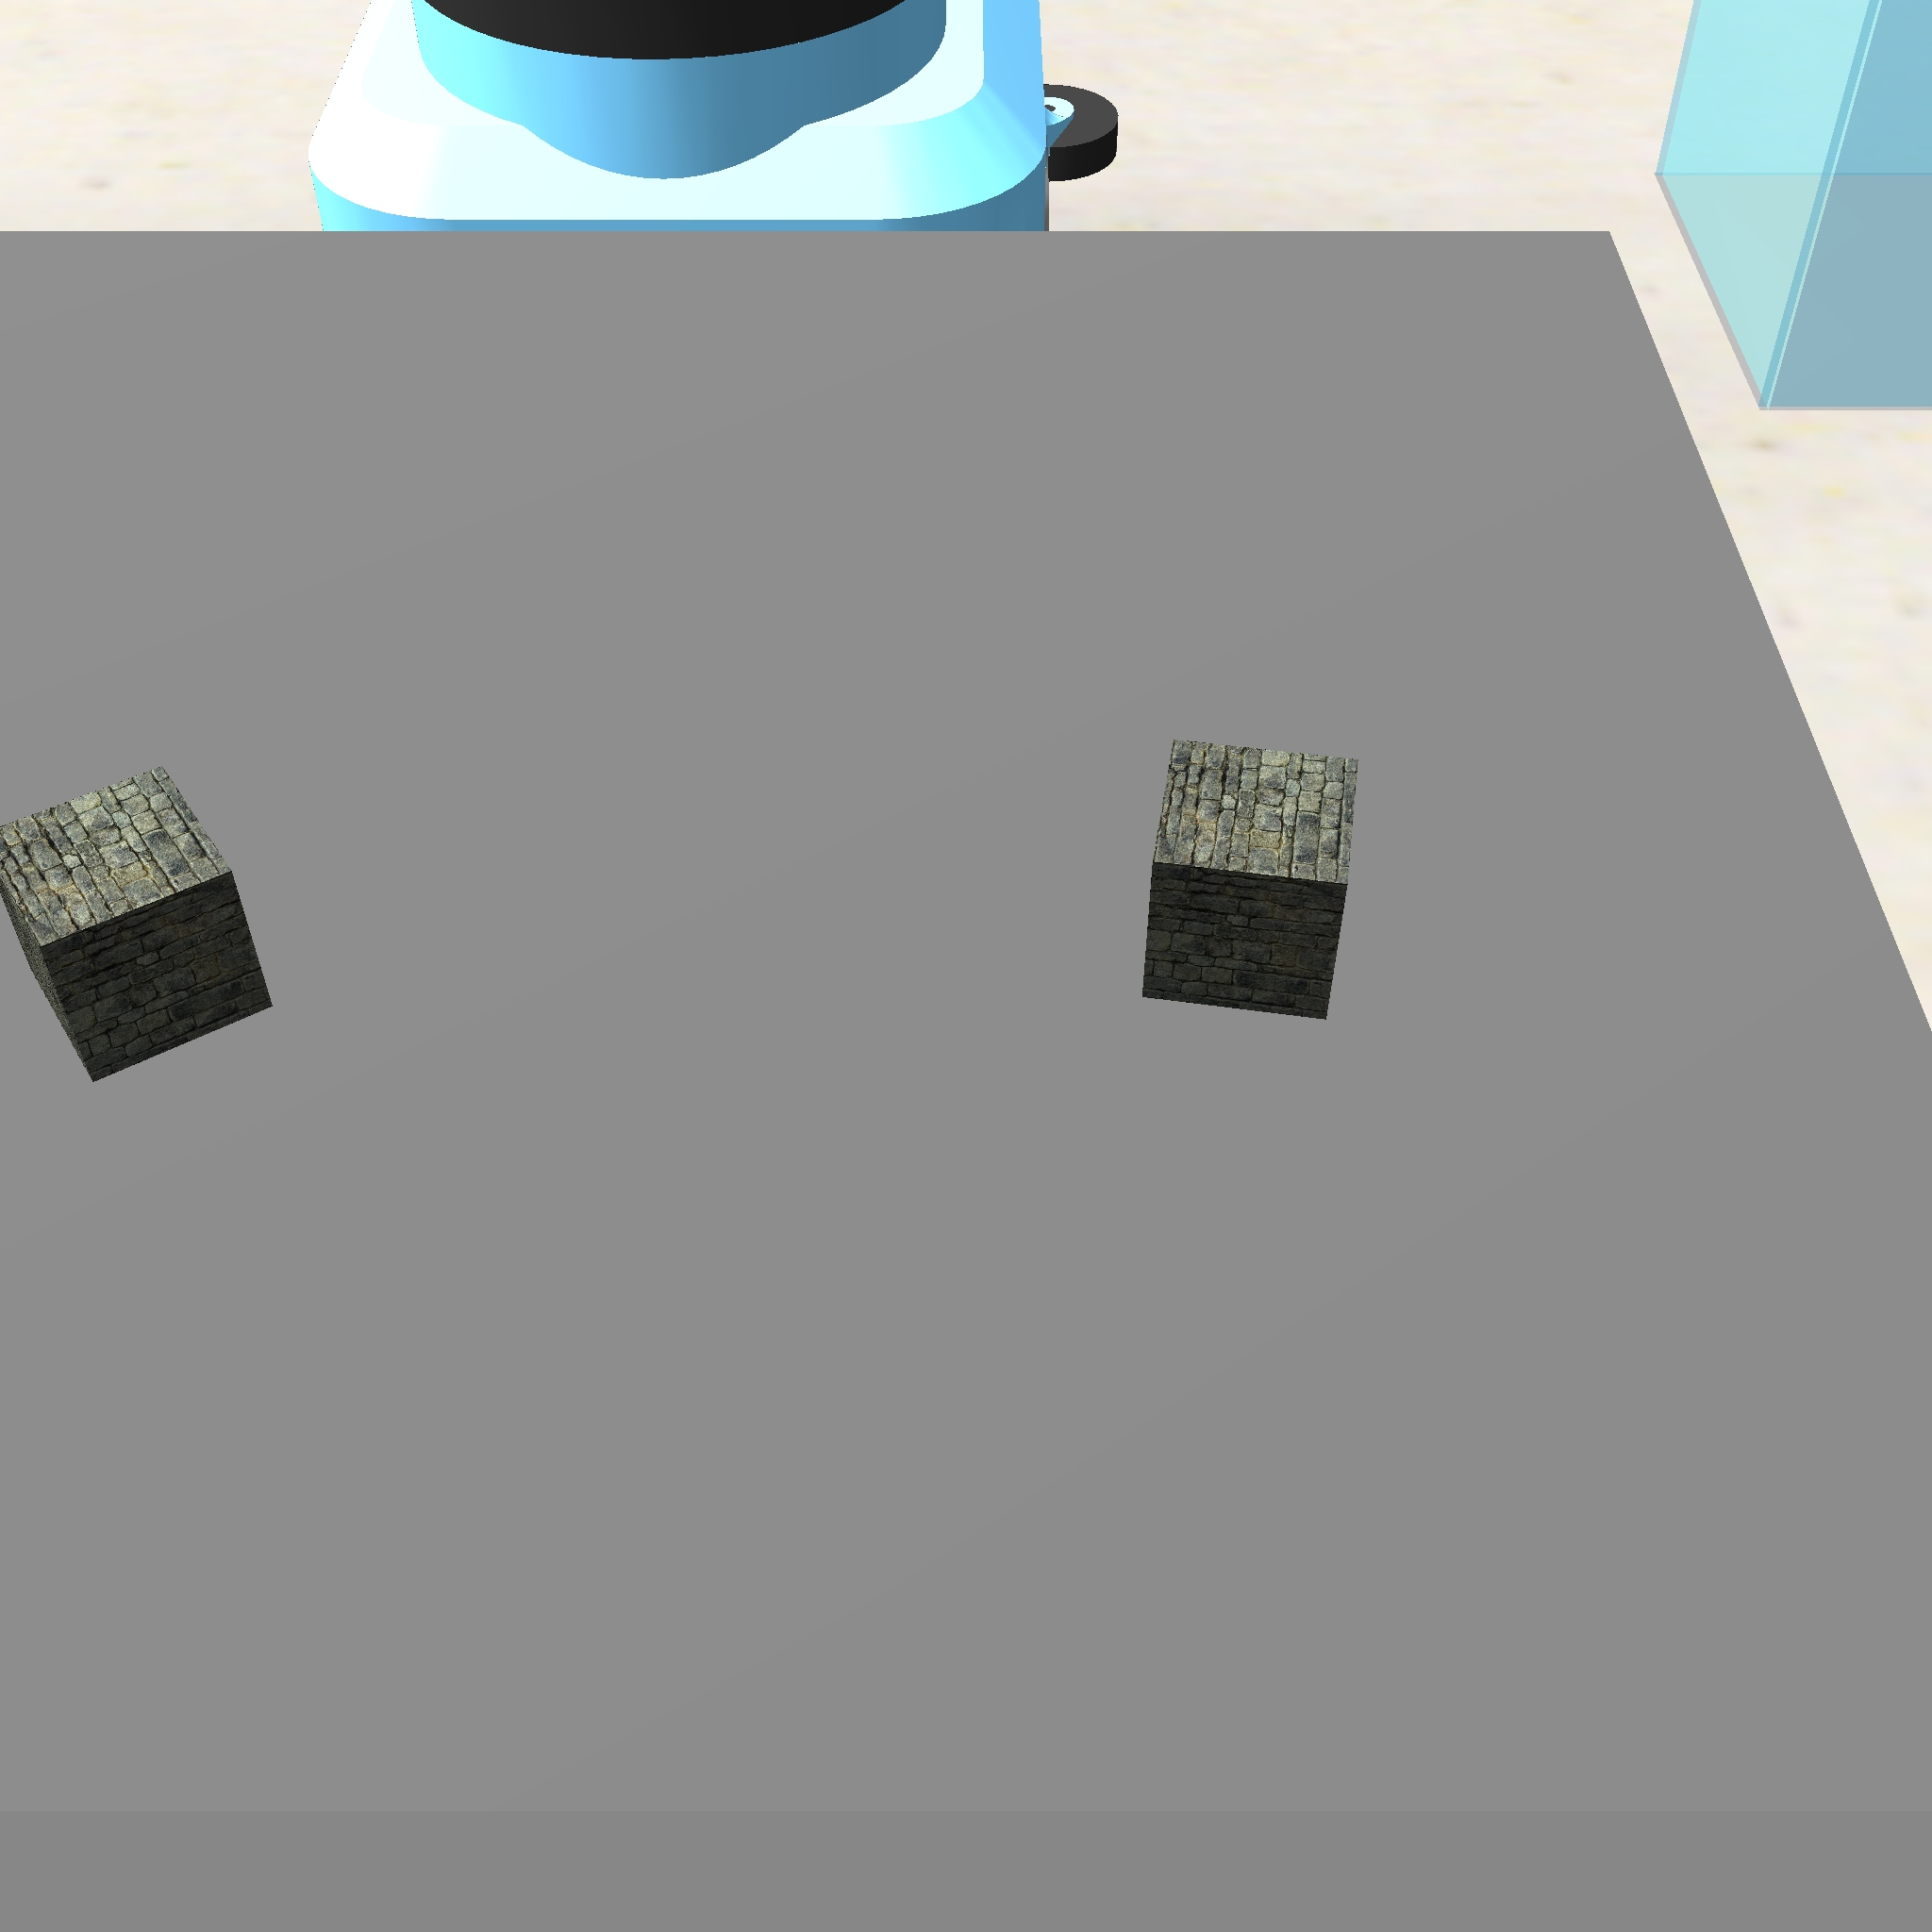cube: (0, 761, 283, 1090), (1136, 729, 1371, 1035)
